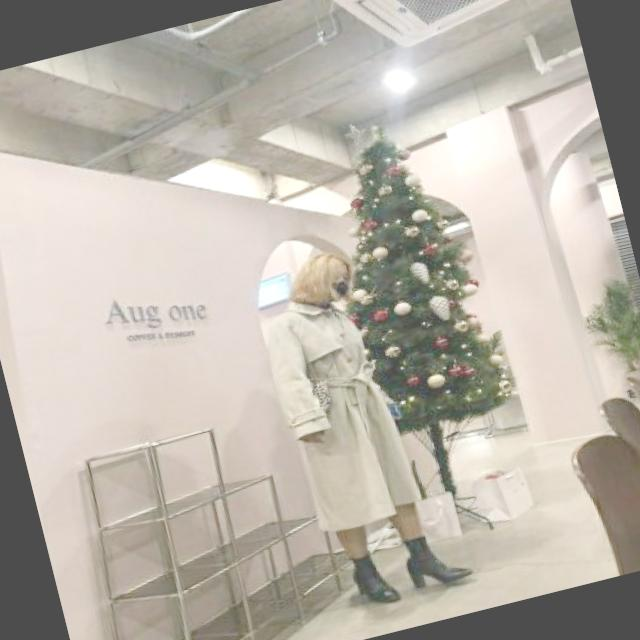coat: (257, 284, 425, 539)
